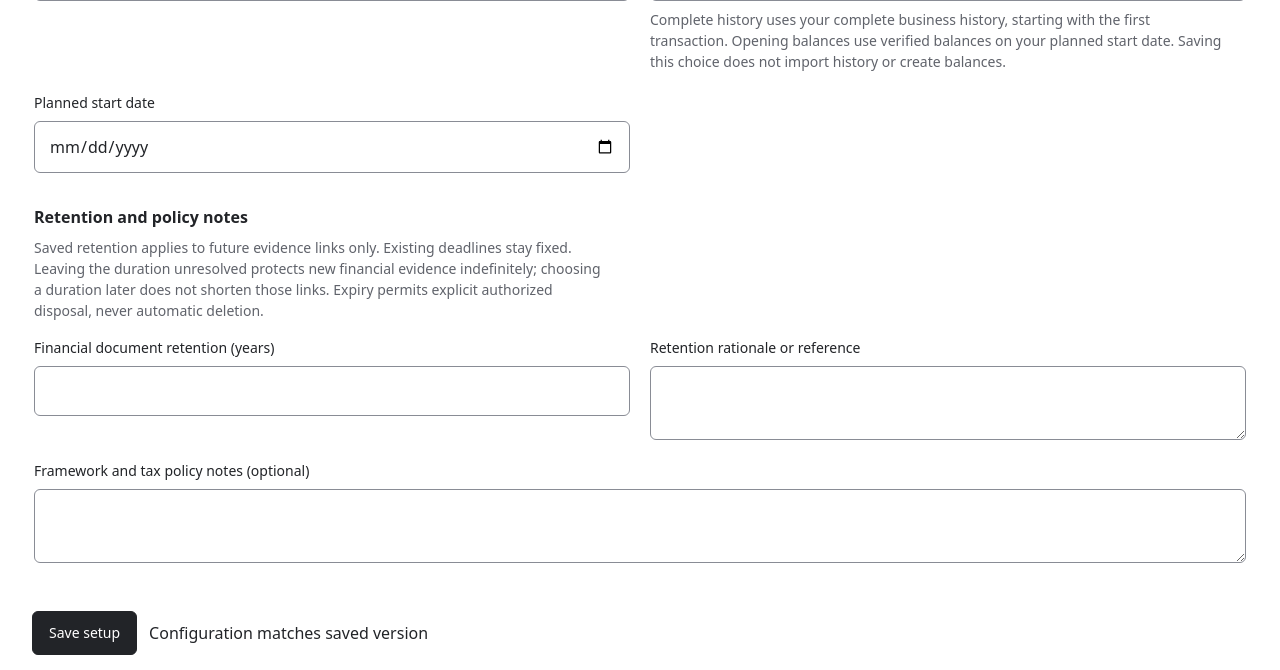
Test: Accounting setup › marks pending saves uncertain for navigation (edited: true)
(page scrolled)
Type "Pending policy" into the text box labelled "Framework and tax policy notes (optional)".
click(640, 526); type("Pending policy")  # box top-left (34, 489), bottom-right (1246, 563)
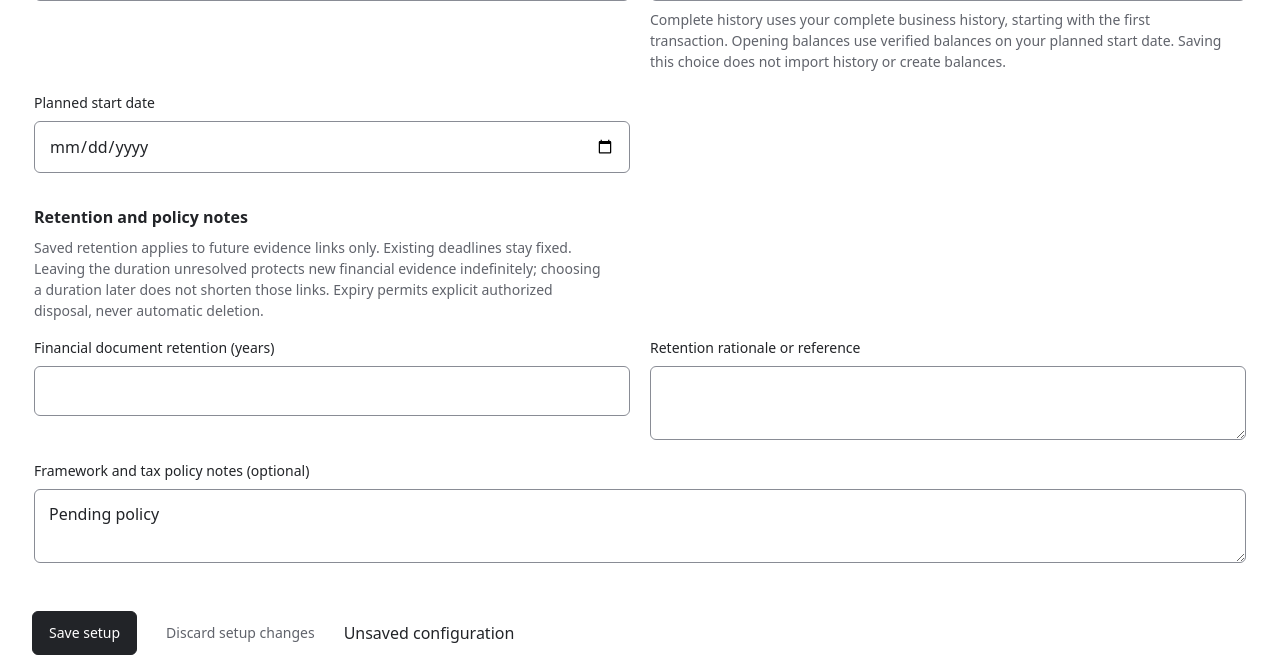
# WHEN saving THEN navigation must treat both unchanged and edited commands as uncertain
Click the button "Save setup".
click(85, 633)  # box top-left (32, 611), bottom-right (137, 655)
(page scrolled)
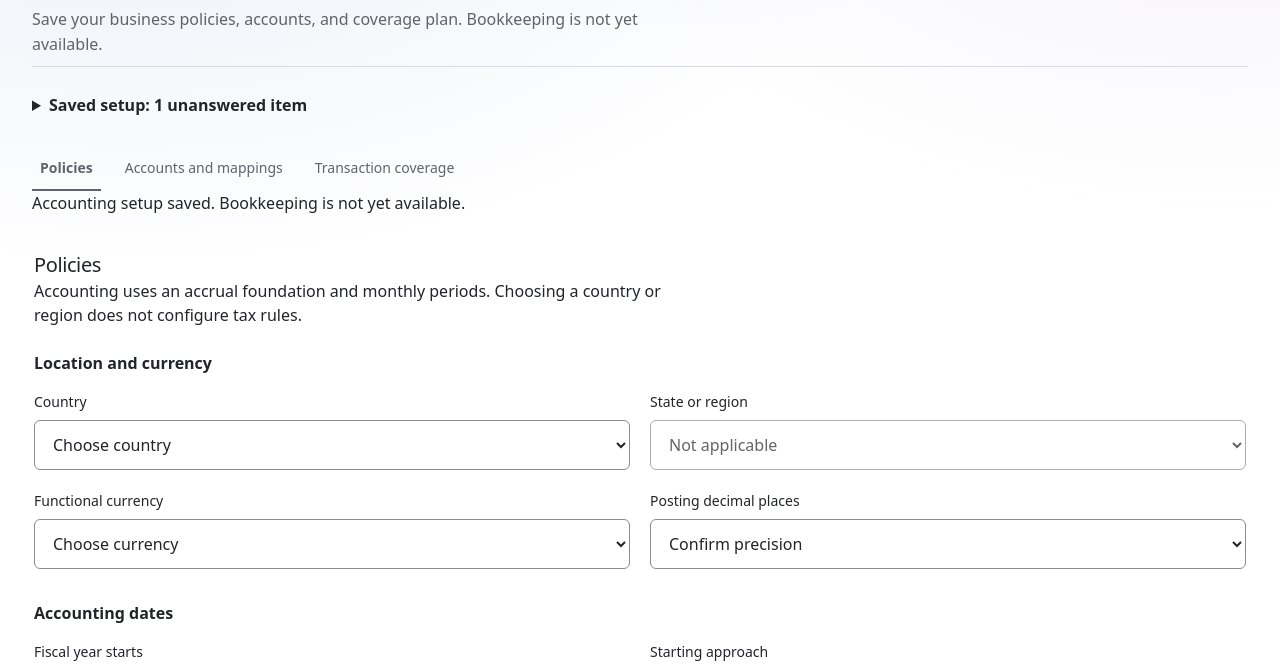
Expected: the text "Accounting setup saved. Bookkeeping is not yet available." is shown, top-left (32, 192), bottom-right (465, 214)
